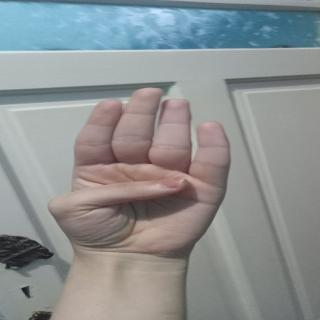KAAF: (46, 80, 234, 254)
